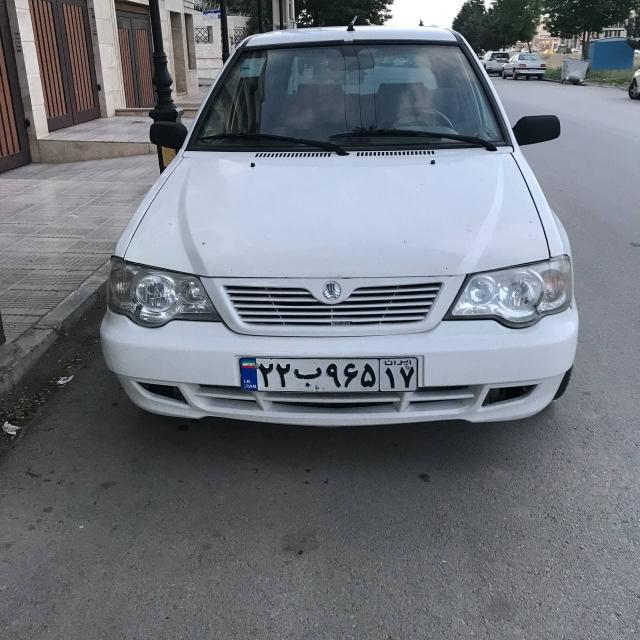Plates: (240, 356, 418, 391)
